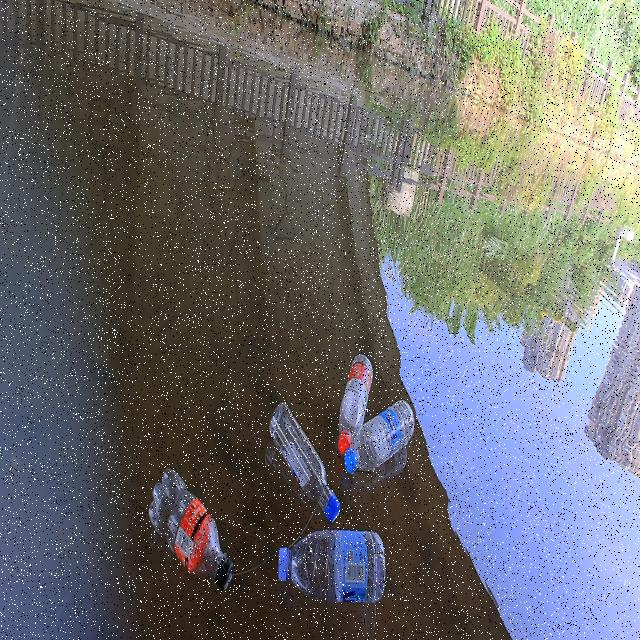Bottle: (147, 462, 235, 593), (266, 396, 341, 523), (277, 527, 387, 607), (345, 394, 414, 475), (336, 342, 374, 451)
